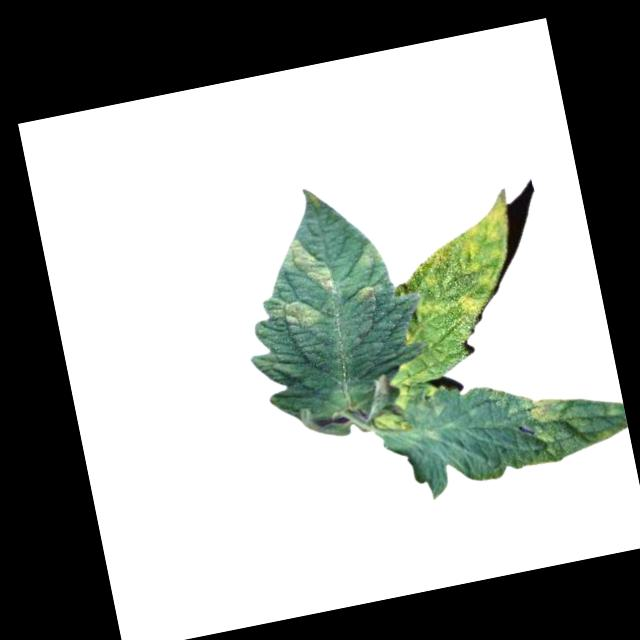Leaf_Mold: (380, 188, 530, 341), (278, 228, 342, 304), (262, 287, 325, 332), (525, 390, 574, 426), (358, 241, 382, 267), (354, 284, 381, 307)
